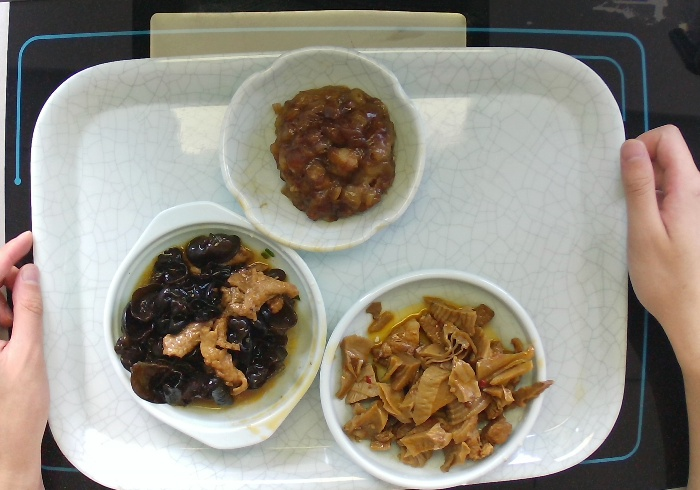JYsf-Ao_Yuan_Wan: (214, 41, 429, 255)
JYsf-Shuang_Er_Pan: (98, 196, 330, 455)
JYsf-Xiao_Yuan_Pan: (317, 265, 551, 490)
